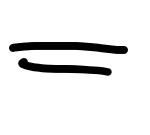eqv: (9, 42, 128, 76)
